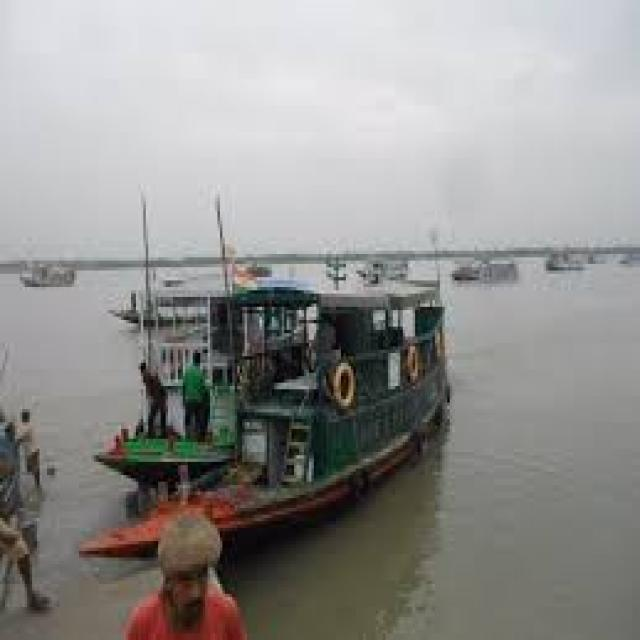houseboat: (78, 203, 494, 574)
